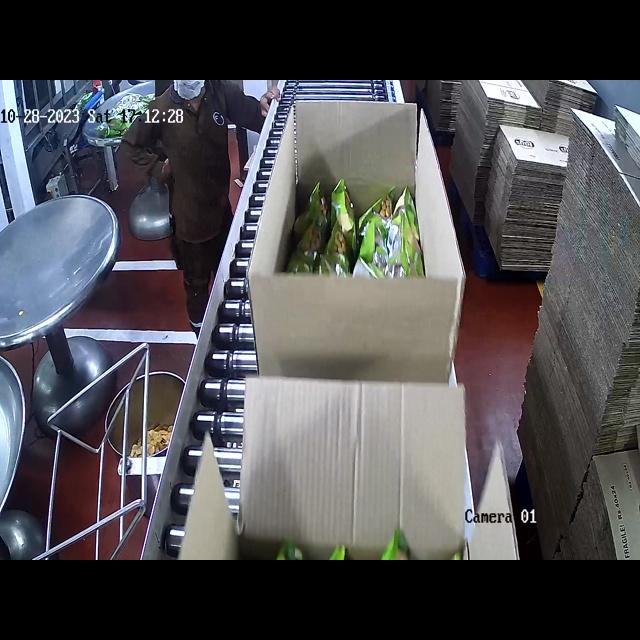yogurt: (305, 174, 416, 282), (276, 525, 458, 558)
